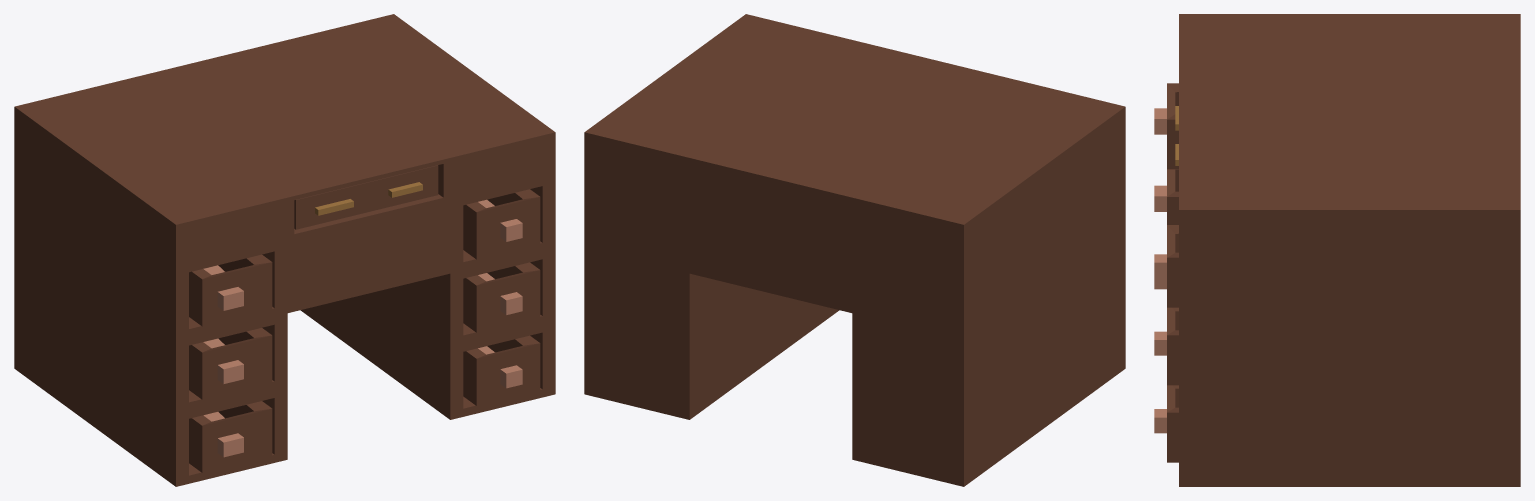
The model's file is Desk.fbx.
The picture shows the model from 3 angles, left to right: view 1: azimuth 30°, elevation 25°; view 2: azimuth 150°, elevation 25°; view 3: azimuth 270°, elevation 25°; orthographic projection. The views are drawn at different scales.
Parts seen in each view (by area): view 1: Desk; view 2: Desk; view 3: Desk.
Part boxes in pixels (x1,y1,x2,y2): Desk: [14, 14, 555, 486]; Desk: [584, 14, 1125, 486]; Desk: [1154, 14, 1520, 486].
Size of the model in its own units: 82.11 by 54.19 by 64.88.
